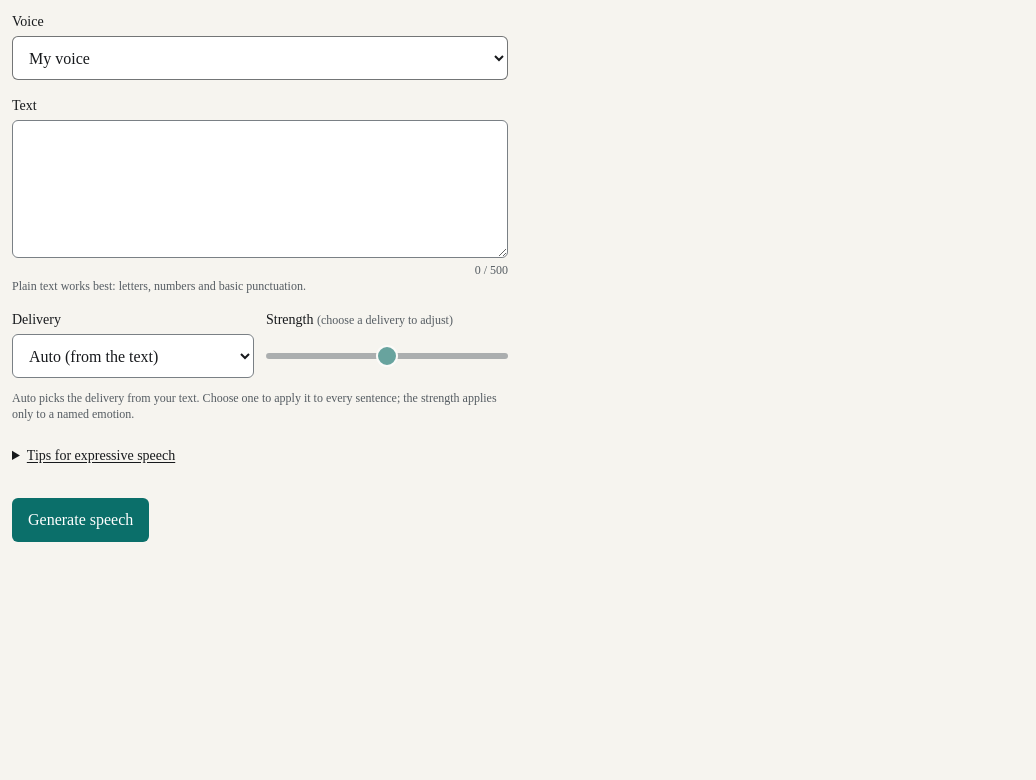
Scenario: TextToSpeechForm › generates once, shows a labelled player and download, and invalidates history
Select "My voice" in the dropdown labelled "Voice" at (260, 58), box [12,36,508,80]
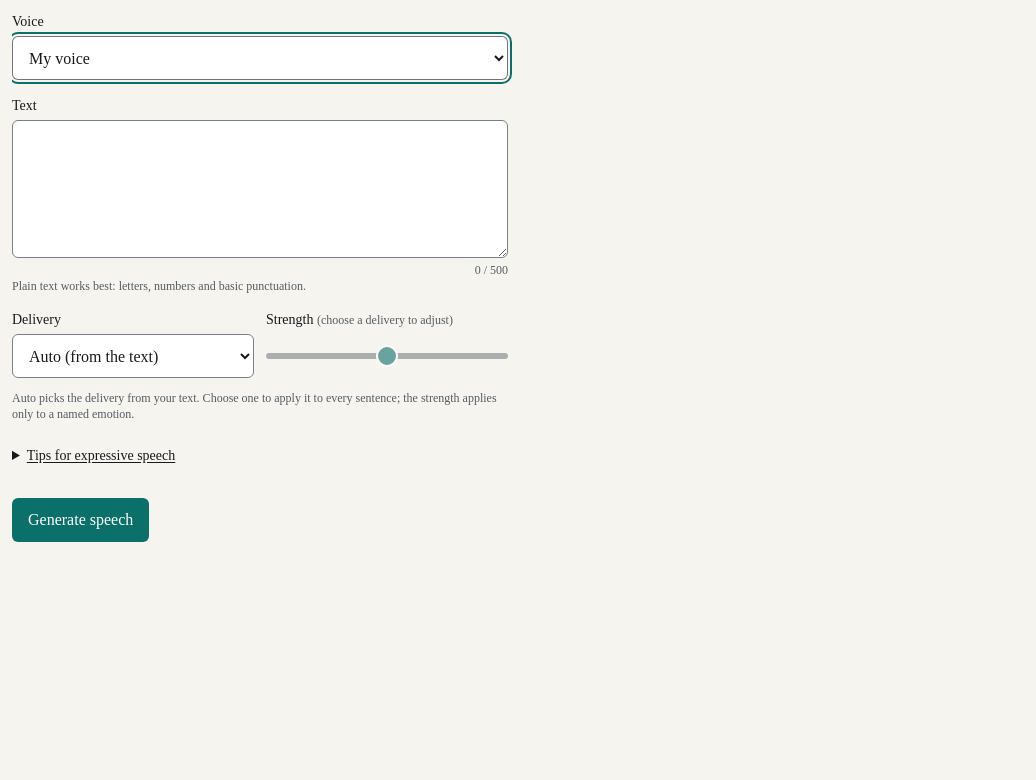
Type "Hello there." into the text box labelled "Text" at (260, 189), box [12,120,508,258]
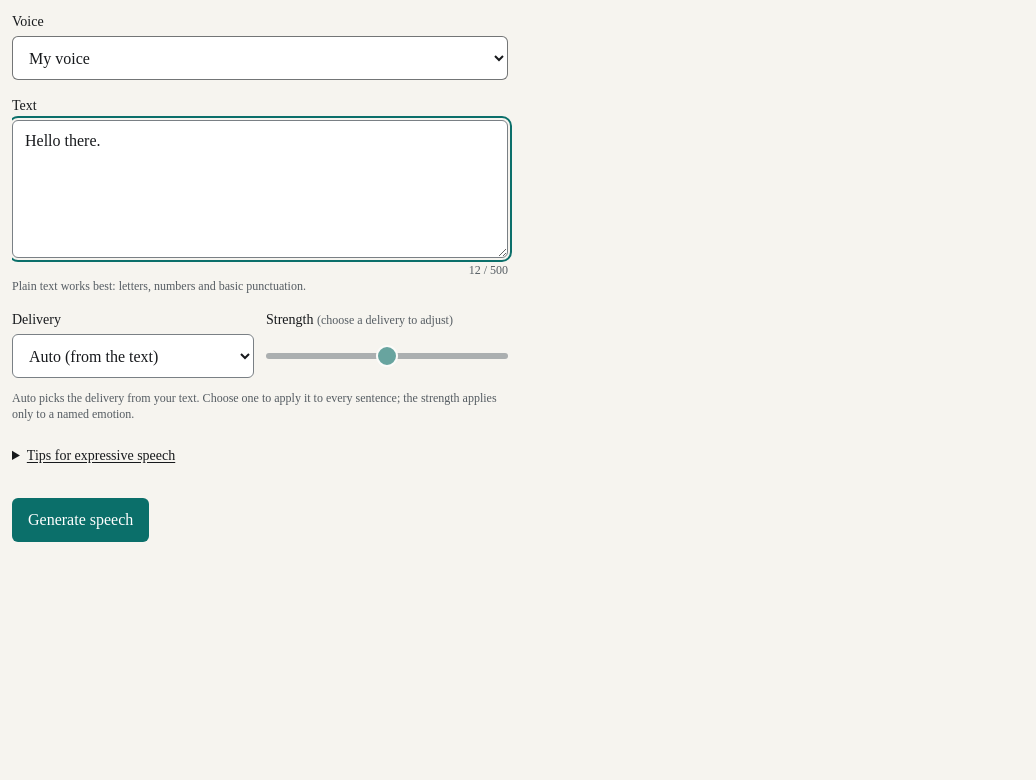
Click the button "Generate speech" at (81, 520), box [12,498,149,542]
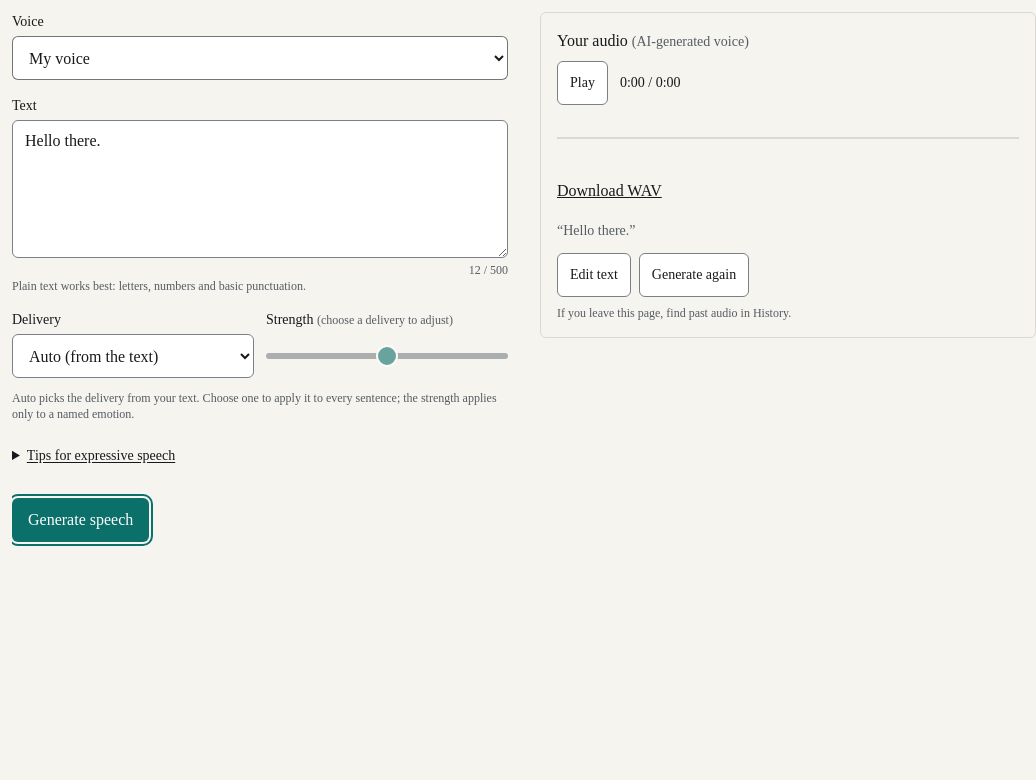
Expected: the text "(AI-generated voice)" is shown, [632,34,749,49]
